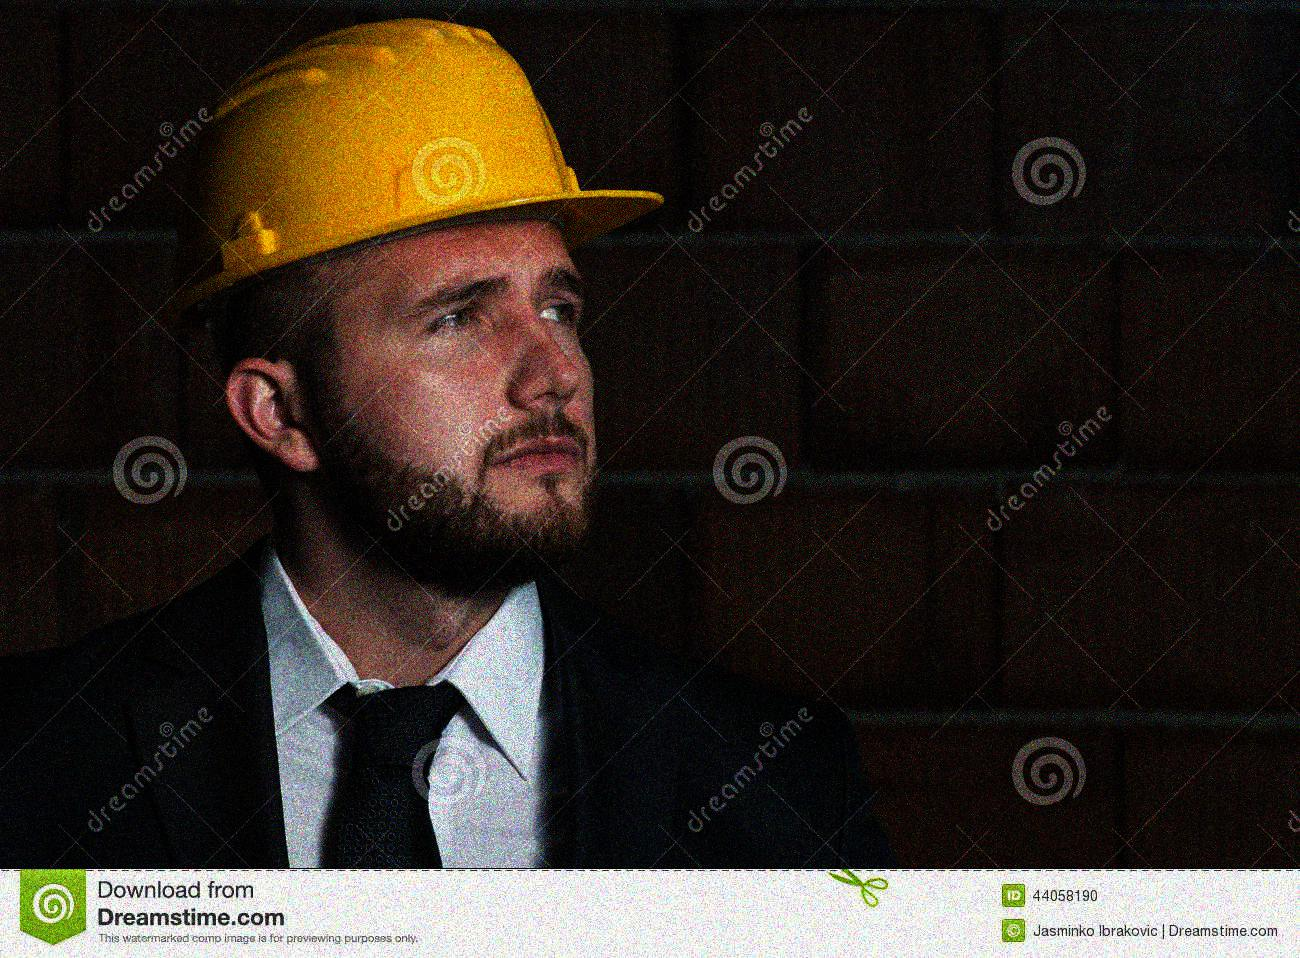helmet: (176, 12, 659, 596)
